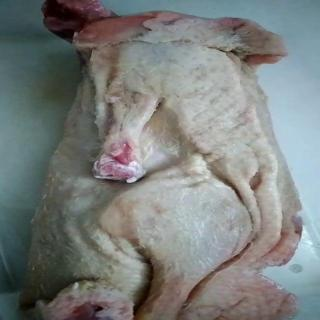Ayam: (17, 1, 303, 320)
